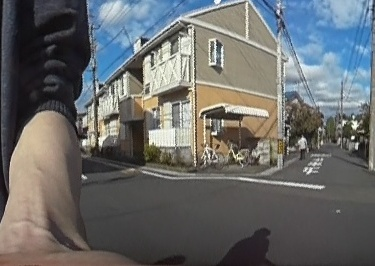person: (296, 133, 306, 158)
